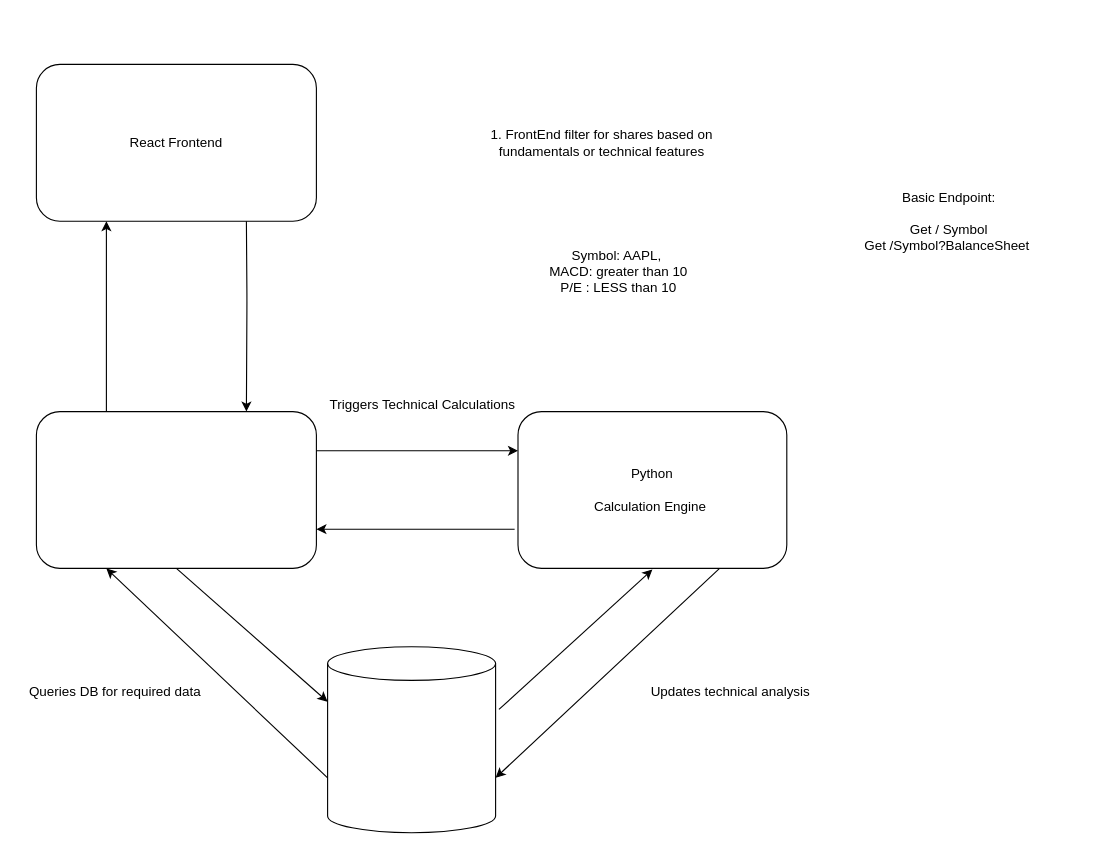
Image size: 1096x852. Some labels were removed from this diagram. Here are the shapes that lost their labels. From the top down, the box of each, then its label:
(35, 410, 316, 568): Java Server API
(326, 646, 496, 833): MongoDB
